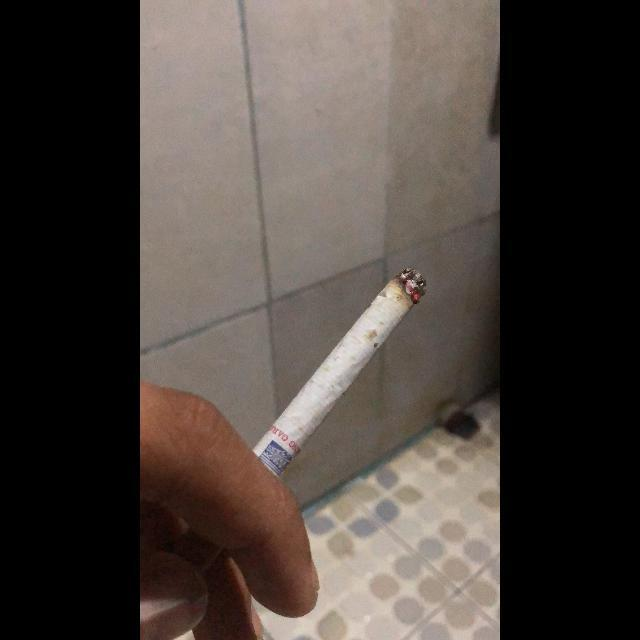rokok: (247, 264, 431, 482)
